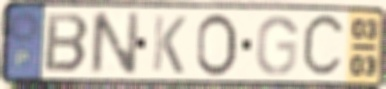B: (42, 11, 92, 75)
C: (300, 11, 348, 82)
G: (254, 14, 300, 78)
K: (150, 13, 189, 76)
N: (88, 9, 142, 78)
O: (194, 11, 239, 79)
